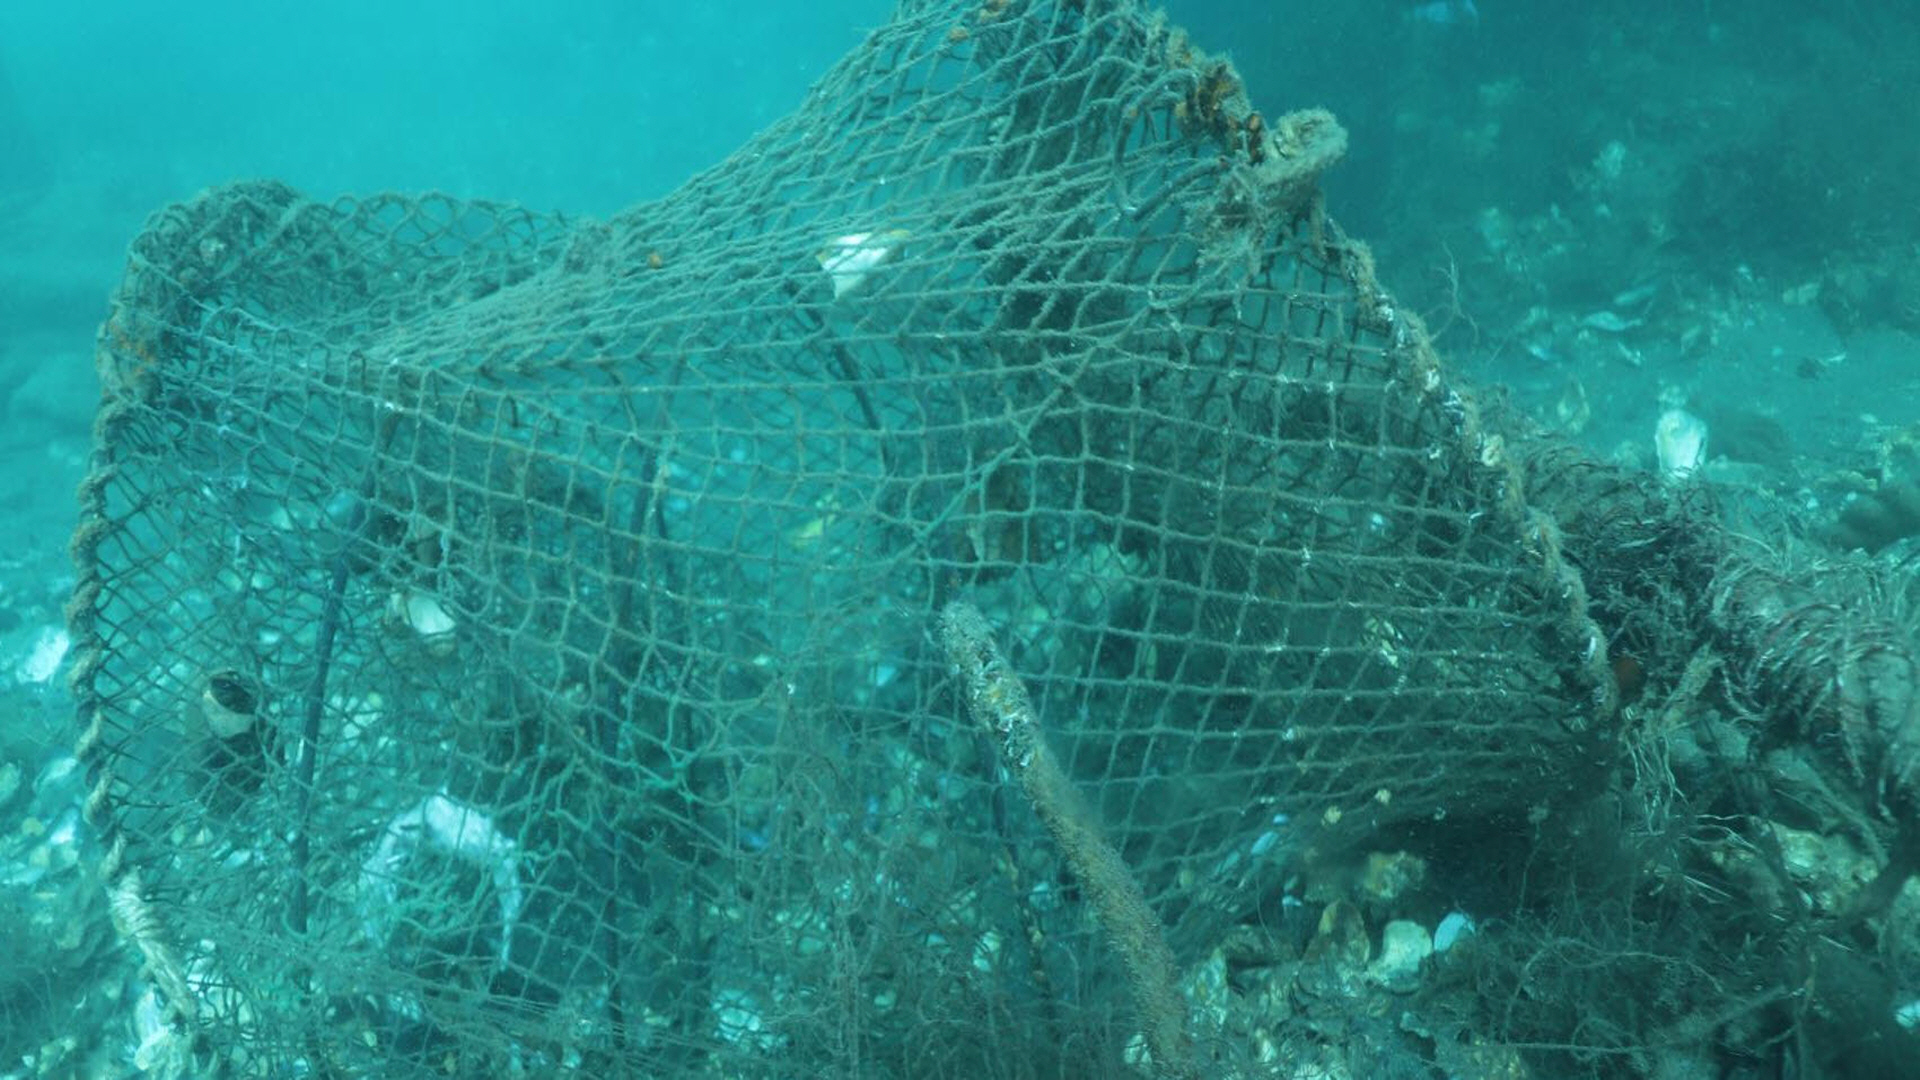spring fish trap: (61, 3, 1614, 1080)
